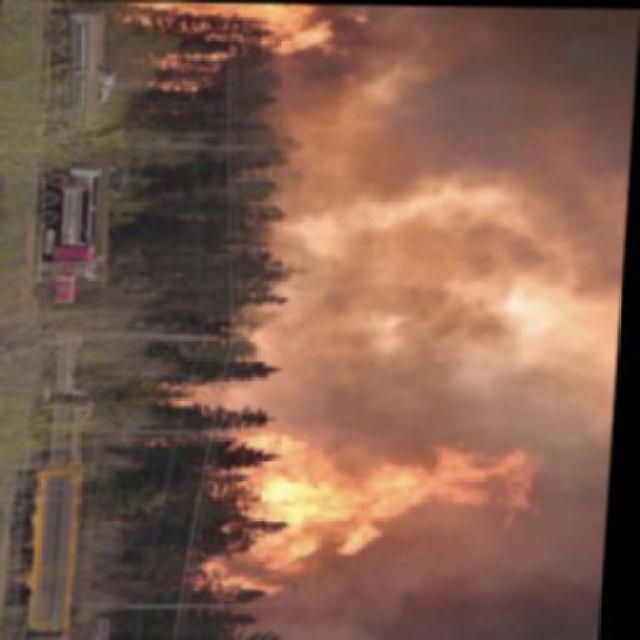fire: (270, 159, 632, 421), (228, 417, 539, 608), (108, 3, 371, 71)
